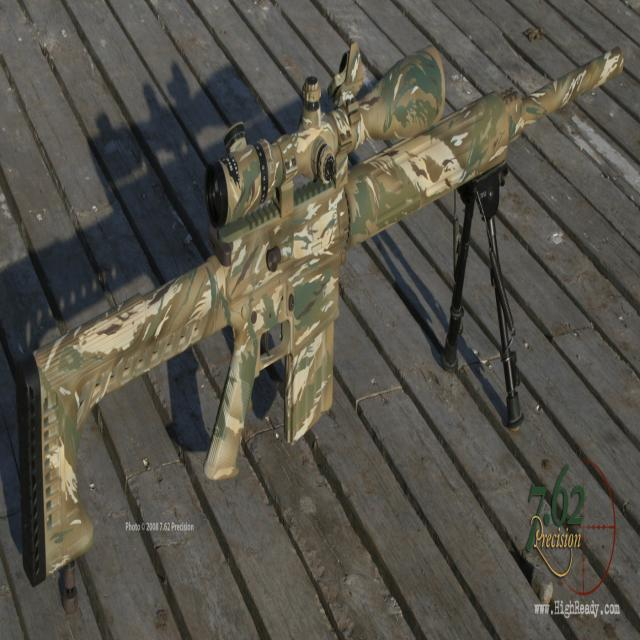Rifle: (32, 45, 622, 582)
